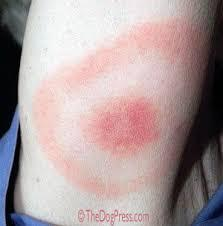Tick: (36, 29, 201, 193)
